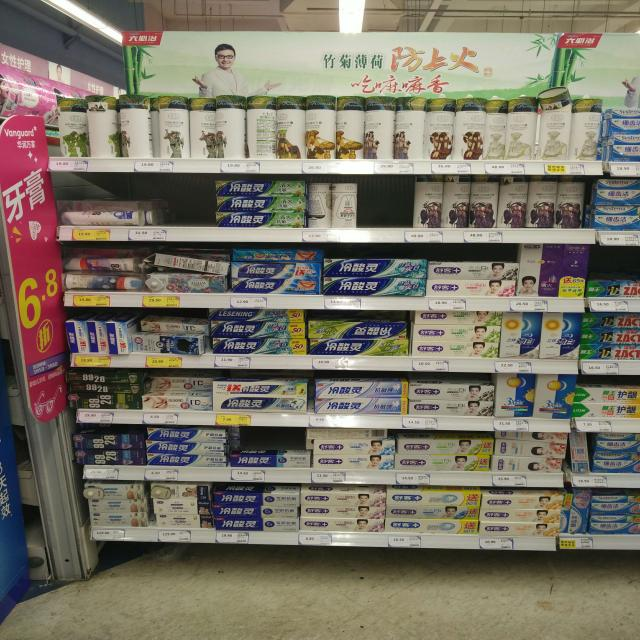unorganised: (187, 95, 483, 161), (87, 91, 161, 157), (537, 87, 603, 160), (230, 247, 321, 296), (306, 317, 408, 355), (62, 246, 144, 293), (396, 435, 493, 471), (145, 250, 229, 291), (484, 96, 536, 160), (413, 175, 472, 230), (131, 316, 211, 354), (59, 197, 168, 224), (67, 371, 142, 408), (591, 176, 640, 230), (144, 373, 212, 410), (55, 94, 88, 157), (603, 107, 640, 162), (427, 260, 519, 282), (231, 428, 311, 453), (498, 175, 527, 229), (307, 182, 332, 229), (568, 432, 593, 475)
